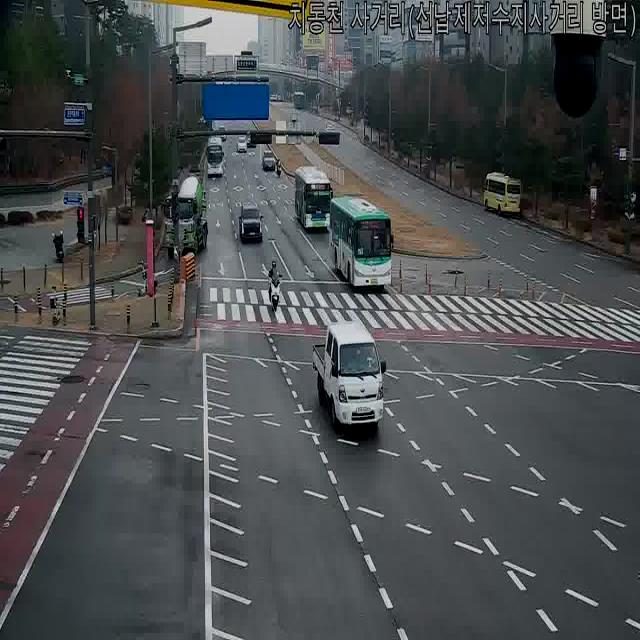Bus: (330, 196, 396, 289), (294, 164, 334, 233), (482, 172, 524, 216), (204, 137, 224, 178), (293, 92, 305, 111)
Car: (482, 172, 524, 216), (238, 203, 264, 246), (262, 150, 276, 173), (246, 128, 258, 149), (236, 137, 248, 154), (216, 126, 227, 142), (324, 122, 336, 135), (289, 110, 298, 124), (273, 93, 283, 103)
Motorcycle: (268, 263, 284, 315), (275, 158, 283, 178)
Truck: (315, 325, 393, 440), (167, 173, 208, 255), (293, 92, 305, 111)
